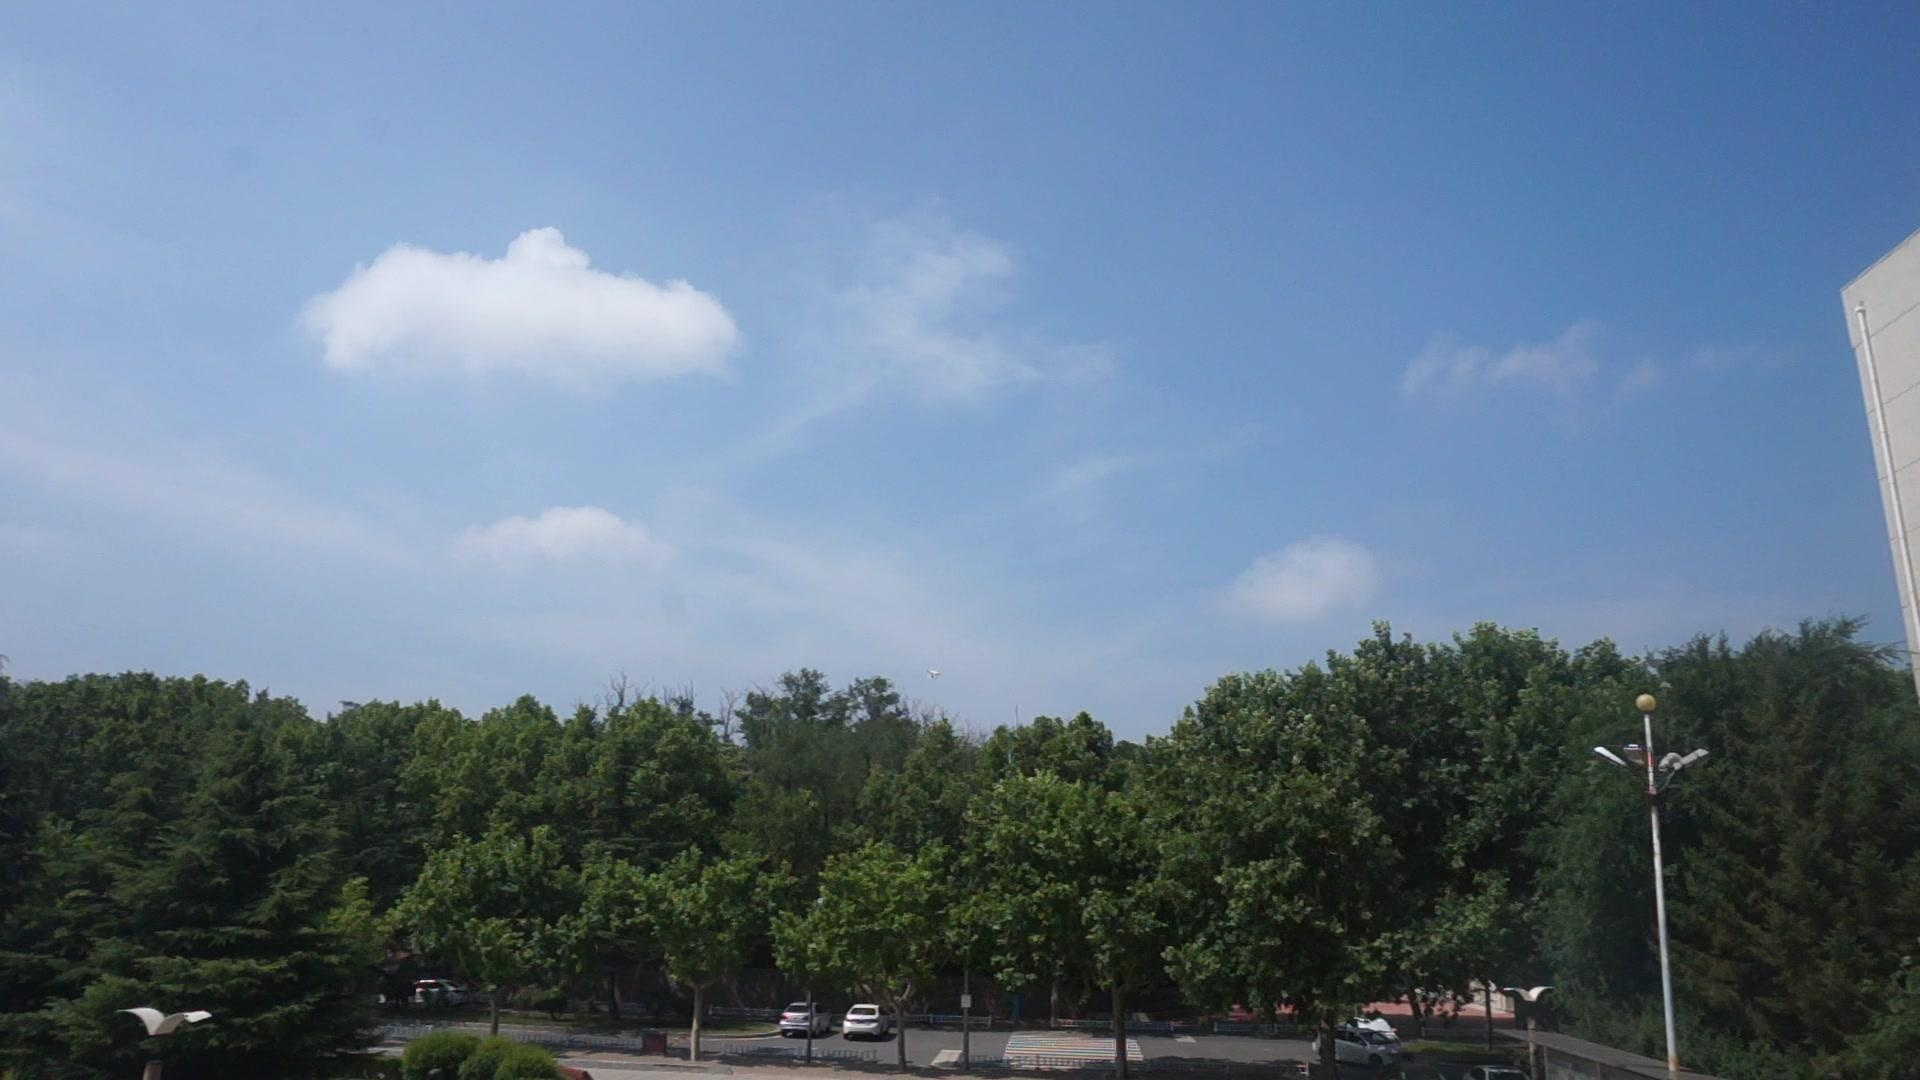UAV: (927, 670, 943, 680)
